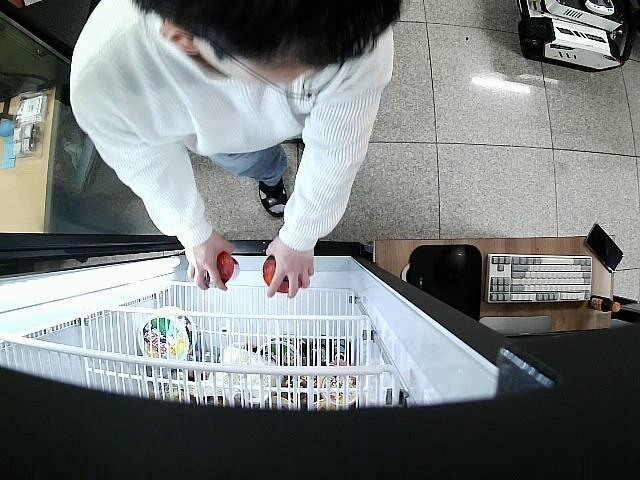02_shinRamen_S: (264, 254, 302, 296), (203, 253, 240, 286)
